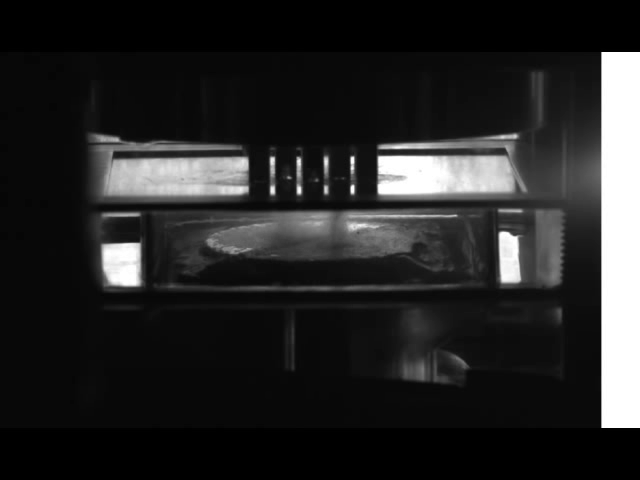Zona de teste: (210, 218, 409, 257)
